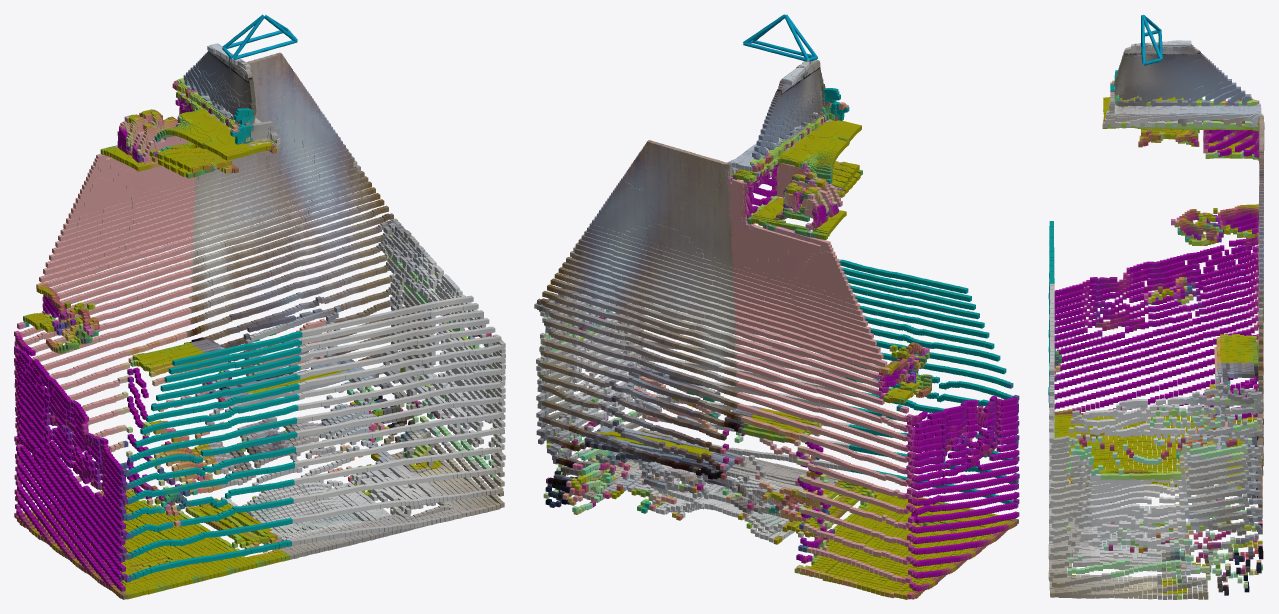
3 views of the same model, side by side, from view 1: azimuth 30°, elevation 25°; view 2: azimuth 150°, elevation 25°; view 3: azimuth 270°, elevation 25° (orthographic). The views are drawn at different scales.
Size of the model in its own units: 4.98 by 6.19 by 2.41.
